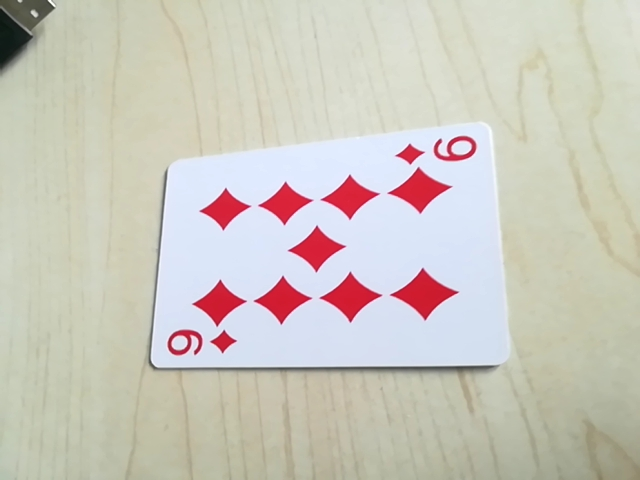fk 9: (397, 127, 484, 172), (160, 325, 241, 365)
